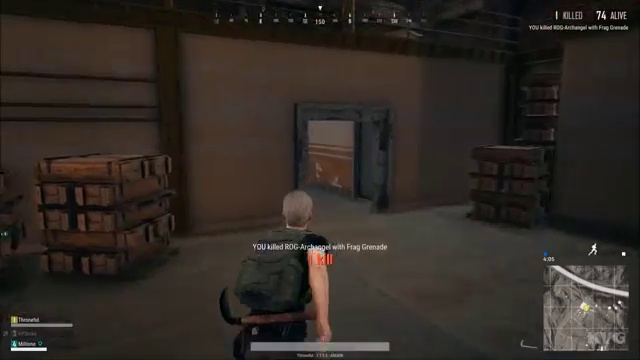Player: (210, 184, 365, 322)
